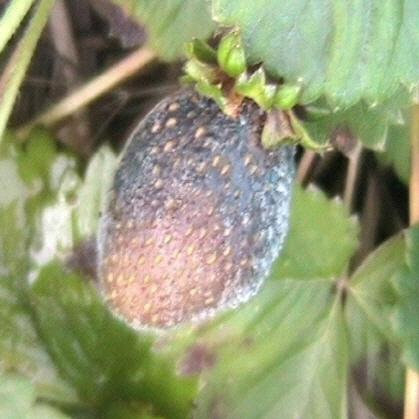Gray Mold: (95, 80, 298, 331)
